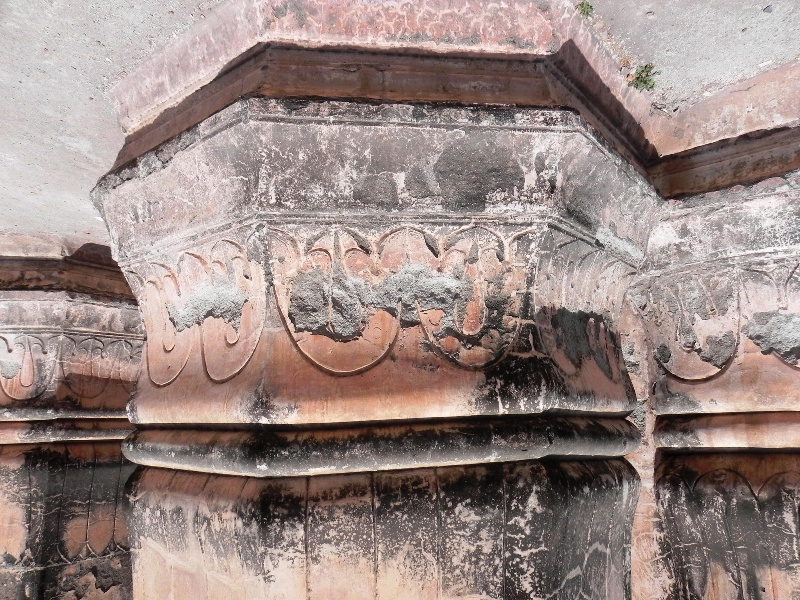Spalling: (286, 267, 480, 346), (160, 271, 248, 344), (554, 301, 599, 362), (692, 321, 738, 377)
